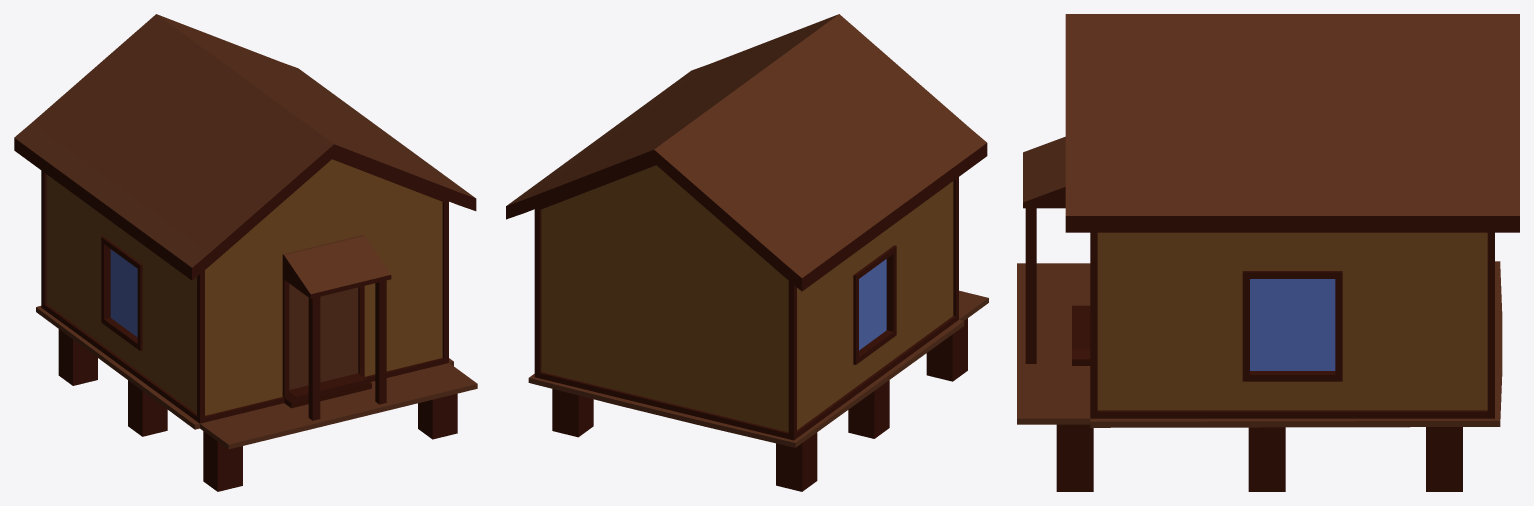
File: Casa1.fbx
The picture shows the model from 3 angles, left to right: view 1: azimuth 30°, elevation 25°; view 2: azimuth 150°, elevation 25°; view 3: azimuth 270°, elevation 25°; orthographic projection. The views are drawn at different scales.
Parts seen in each view (by area): view 1: Casa1; view 2: Casa1; view 3: Casa1.
Part boxes in pixels (bbox=[...]): Casa1: bbox=[14, 14, 477, 491]; Casa1: bbox=[506, 14, 988, 491]; Casa1: bbox=[1017, 14, 1519, 491].
Size of the model in its own units: 853 by 906 by 1024.
